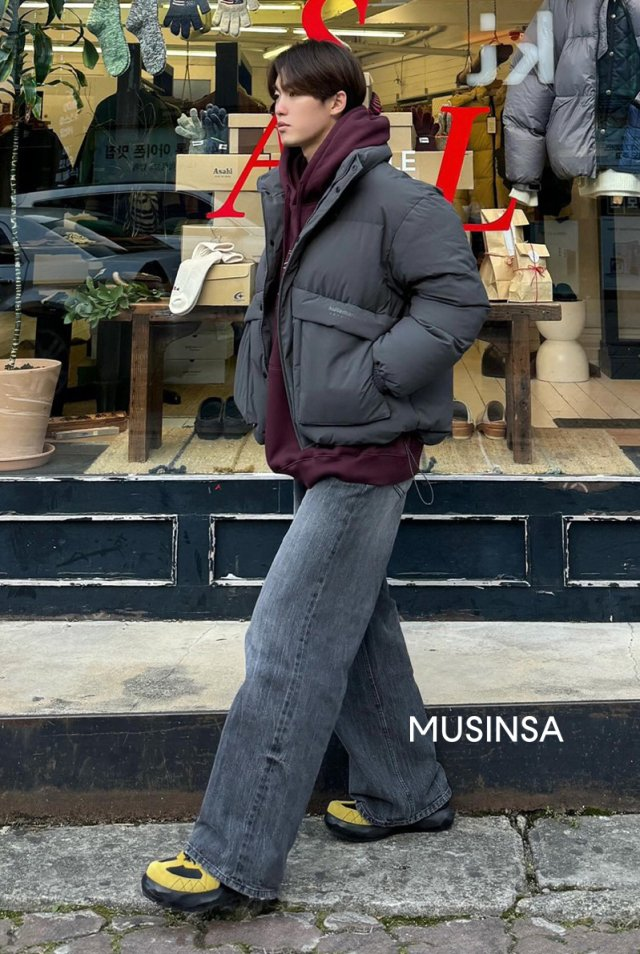Bubble jacket: (224, 161, 490, 448)
Jeans: (184, 456, 452, 904)
Shoes: (141, 788, 458, 913)
